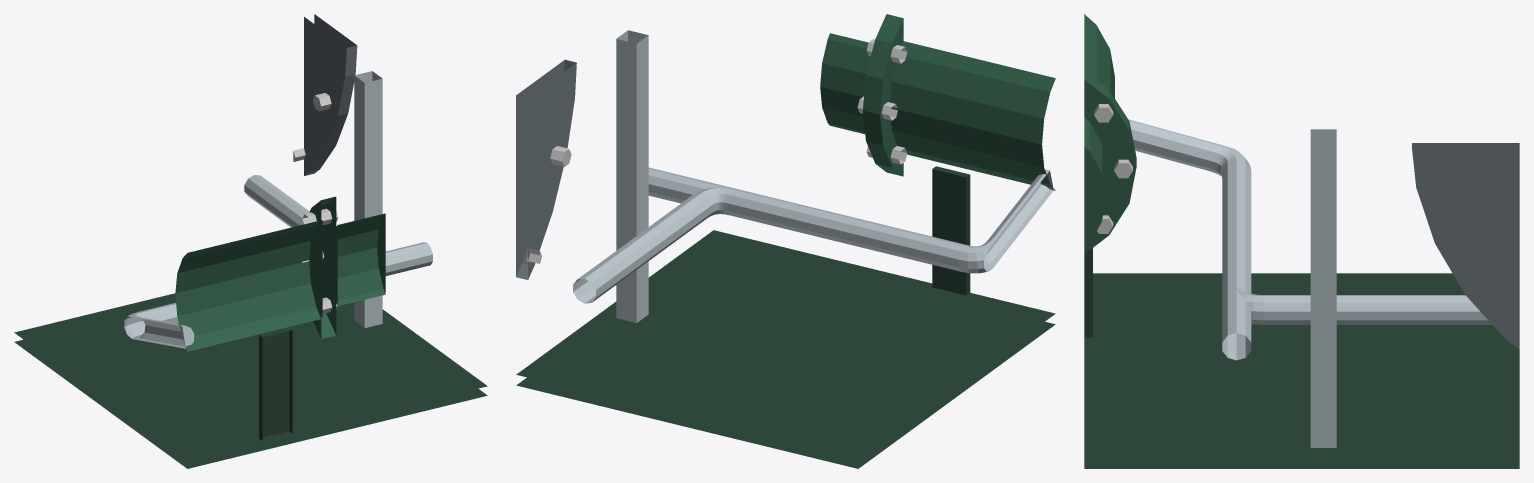
Rendered from cell_22.obj.
The picture shows the model from 3 angles, left to right: view 1: azimuth 30°, elevation 25°; view 2: azimuth 150°, elevation 25°; view 3: azimuth 270°, elevation 25°; orthographic projection. The views are drawn at different scales.
Bounding box in the file's own units: 1 × 0.81 × 1.
